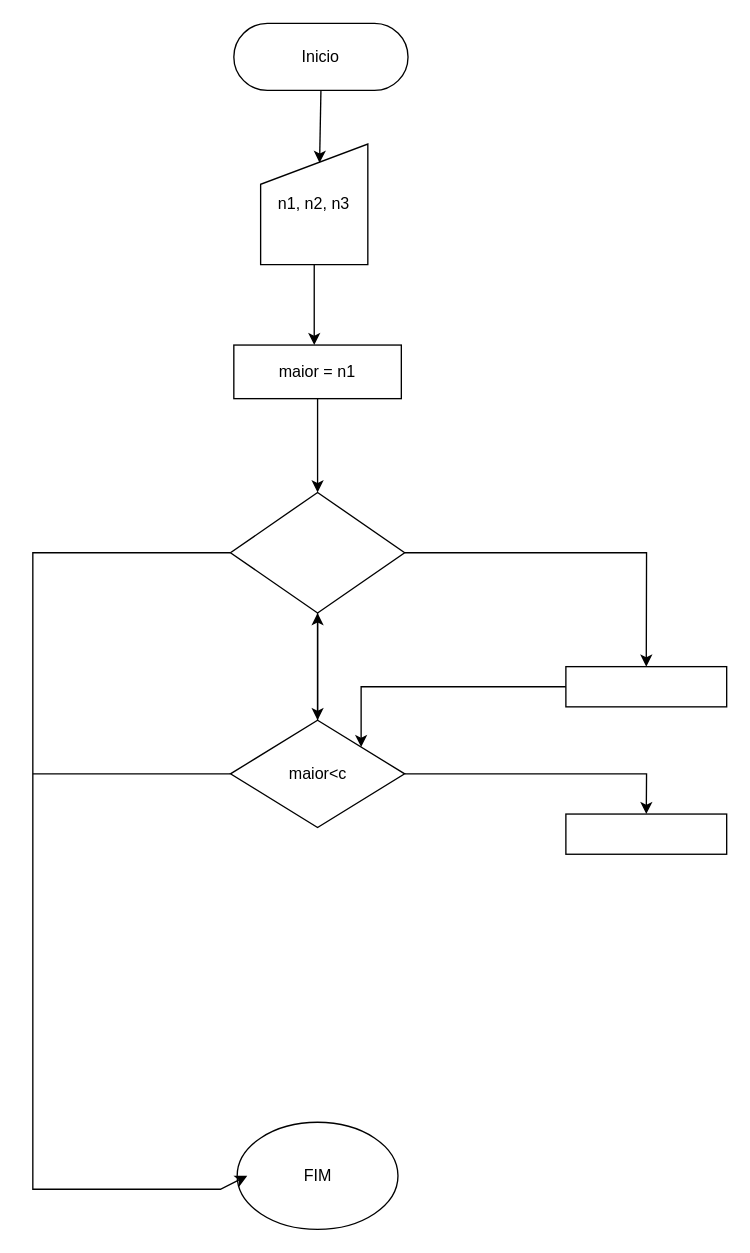
The diagram is 750 pixels wide and 1253 high, and some of its shapes have lost their labels. Each missing label, with the centre of its shape:
maior = b: (646,686)
maior = c: (646,833)
maior<b: (317,552)
